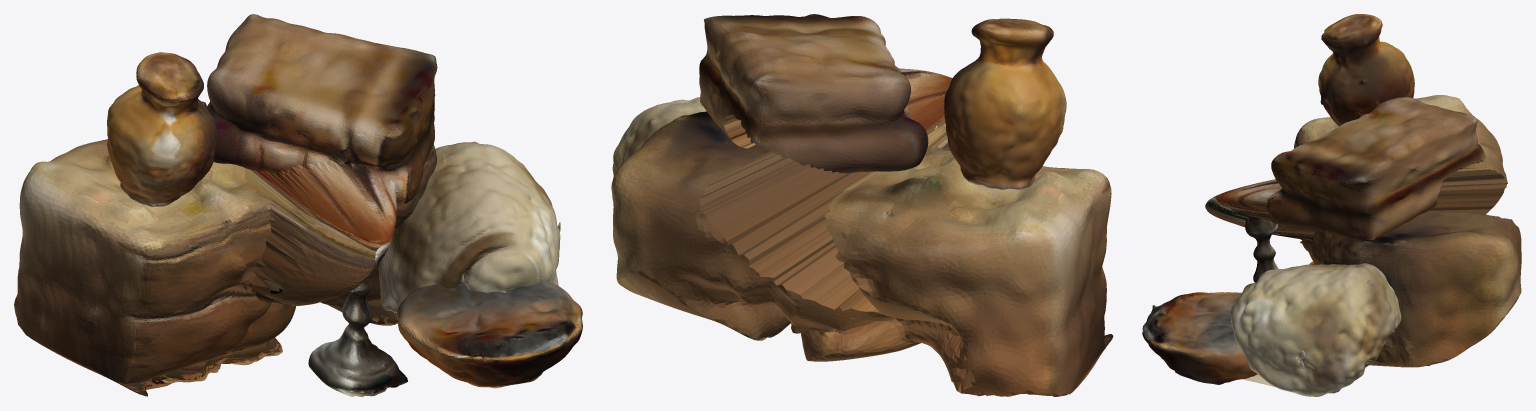
Rendered from gen3dsr_no_bg.glb.
The picture shows the model from 3 angles, left to right: view 1: azimuth 30°, elevation 25°; view 2: azimuth 150°, elevation 25°; view 3: azimuth 270°, elevation 25°; orthographic projection. The views are drawn at different scales.
Parts seen in each view (by area): view 1: 4.obj, 0.obj, 2.obj, 3.obj, 1.obj, 5.obj; view 2: 4.obj, 0.obj, 1.obj, 2.obj; view 3: 4.obj, 0.obj, 2.obj, 1.obj, 3.obj, 5.obj.
Part boxes in pixels (bbox=[...]): 4.obj: bbox=[14, 139, 436, 396]; 0.obj: bbox=[206, 14, 437, 247]; 2.obj: bbox=[378, 141, 560, 315]; 3.obj: bbox=[396, 281, 582, 388]; 1.obj: bbox=[107, 52, 217, 207]; 5.obj: bbox=[308, 242, 407, 396]; 4.obj: bbox=[612, 111, 1113, 396]; 0.obj: bbox=[699, 14, 952, 173]; 1.obj: bbox=[944, 18, 1066, 189]; 2.obj: bbox=[611, 97, 706, 201]; 4.obj: bbox=[1205, 95, 1521, 367]; 0.obj: bbox=[1214, 97, 1485, 241]; 2.obj: bbox=[1230, 263, 1401, 396]; 1.obj: bbox=[1318, 14, 1414, 126]; 3.obj: bbox=[1142, 292, 1257, 384]; 5.obj: bbox=[1207, 197, 1278, 282].
Bounding box in the file's own units: 0.7808 × 0.4924 × 0.668.
Materials: 6 (6 with a texture image).
